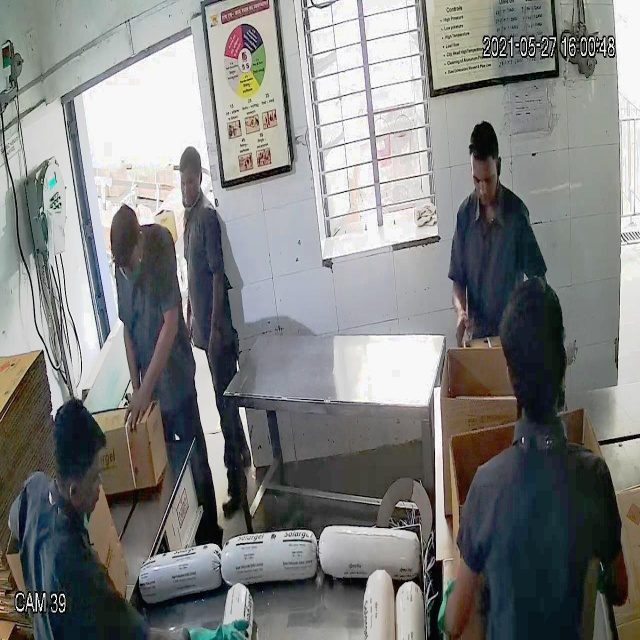Sin_gafas: (468, 164, 502, 194)
